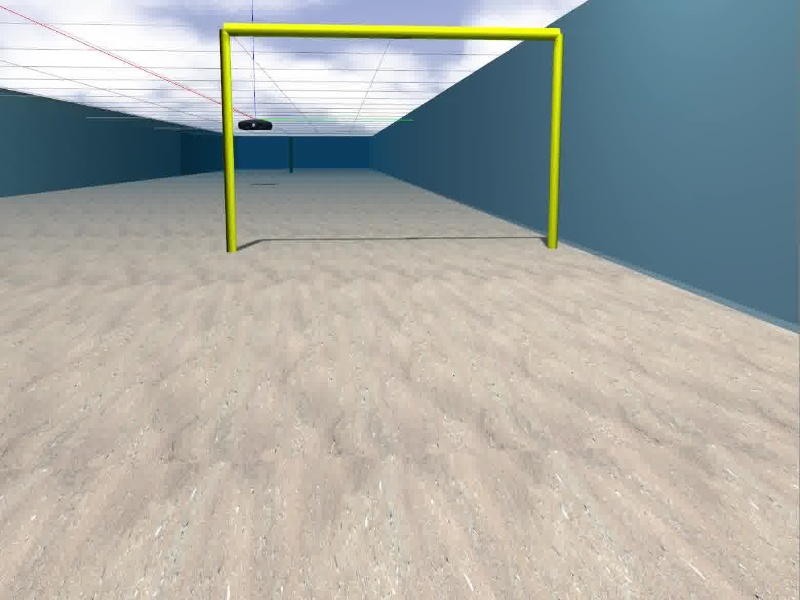gate: (219, 20, 567, 251)
